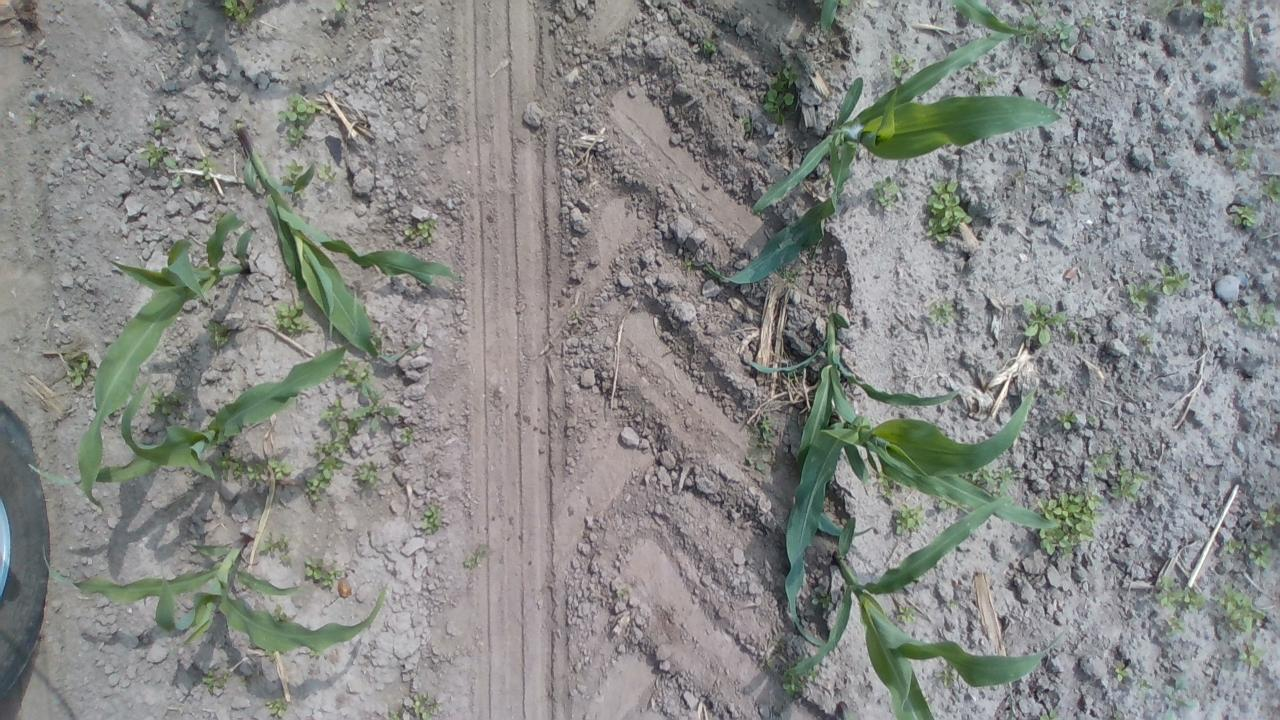Maize: (695, 28, 1063, 284), (781, 390, 1040, 650), (790, 496, 1070, 720), (233, 114, 467, 366), (74, 214, 255, 512), (24, 341, 352, 491), (41, 533, 391, 656), (738, 305, 962, 479), (816, 0, 1036, 39)
Weeds: (305, 398, 359, 505), (1035, 485, 1105, 560), (924, 178, 973, 242), (1212, 579, 1266, 634), (761, 62, 801, 124), (212, 451, 293, 481), (276, 93, 322, 145), (352, 383, 400, 432), (134, 140, 182, 188), (1021, 298, 1069, 346), (1208, 103, 1266, 140), (739, 416, 776, 474), (1154, 573, 1206, 613), (268, 300, 316, 337), (1160, 674, 1196, 720), (387, 690, 441, 720), (1222, 538, 1272, 570), (1111, 466, 1152, 504), (301, 556, 344, 592), (146, 389, 192, 422), (332, 356, 373, 391), (979, 464, 1014, 498), (1234, 302, 1276, 330), (1158, 261, 1190, 297), (256, 530, 290, 563), (894, 502, 926, 536), (1196, 0, 1231, 31), (1044, 16, 1074, 52), (352, 458, 384, 490), (402, 216, 438, 244), (62, 350, 90, 386), (1124, 279, 1160, 307), (1086, 445, 1120, 474), (871, 176, 900, 209), (782, 670, 809, 704), (926, 302, 960, 328), (220, 0, 256, 23), (419, 502, 444, 534), (203, 318, 229, 346), (1238, 642, 1264, 670), (196, 154, 220, 184), (201, 668, 232, 691), (1231, 204, 1260, 228), (890, 52, 916, 78), (152, 112, 177, 138), (933, 665, 960, 689), (1259, 68, 1280, 98), (1259, 175, 1280, 204), (976, 73, 1001, 97), (315, 160, 338, 186), (464, 543, 487, 569), (265, 692, 287, 718), (1232, 146, 1256, 169), (1056, 406, 1078, 431), (1258, 503, 1280, 527), (284, 158, 304, 184), (1022, 0, 1050, 18), (1148, 0, 1176, 18), (878, 475, 896, 503), (894, 605, 918, 625), (1164, 617, 1186, 637), (812, 590, 834, 610), (270, 604, 290, 625), (734, 114, 754, 135), (700, 38, 721, 56), (1136, 330, 1152, 353), (398, 424, 416, 444), (936, 494, 956, 511), (1054, 83, 1068, 107), (22, 110, 42, 126), (1114, 660, 1128, 682), (1038, 708, 1062, 720), (1066, 178, 1082, 195), (1232, 12, 1246, 31), (79, 89, 95, 105), (759, 657, 775, 673), (1136, 676, 1152, 690), (1079, 14, 1094, 28), (334, 0, 350, 13), (777, 267, 793, 280), (682, 254, 692, 272), (808, 665, 818, 683), (1012, 170, 1028, 181), (1066, 327, 1080, 339), (1054, 386, 1066, 400), (786, 368, 804, 376), (1086, 414, 1098, 425), (790, 654, 801, 666), (238, 679, 249, 690), (948, 599, 960, 609), (838, 0, 852, 8), (310, 650, 322, 658), (1113, 710, 1122, 720), (616, 590, 624, 598)
